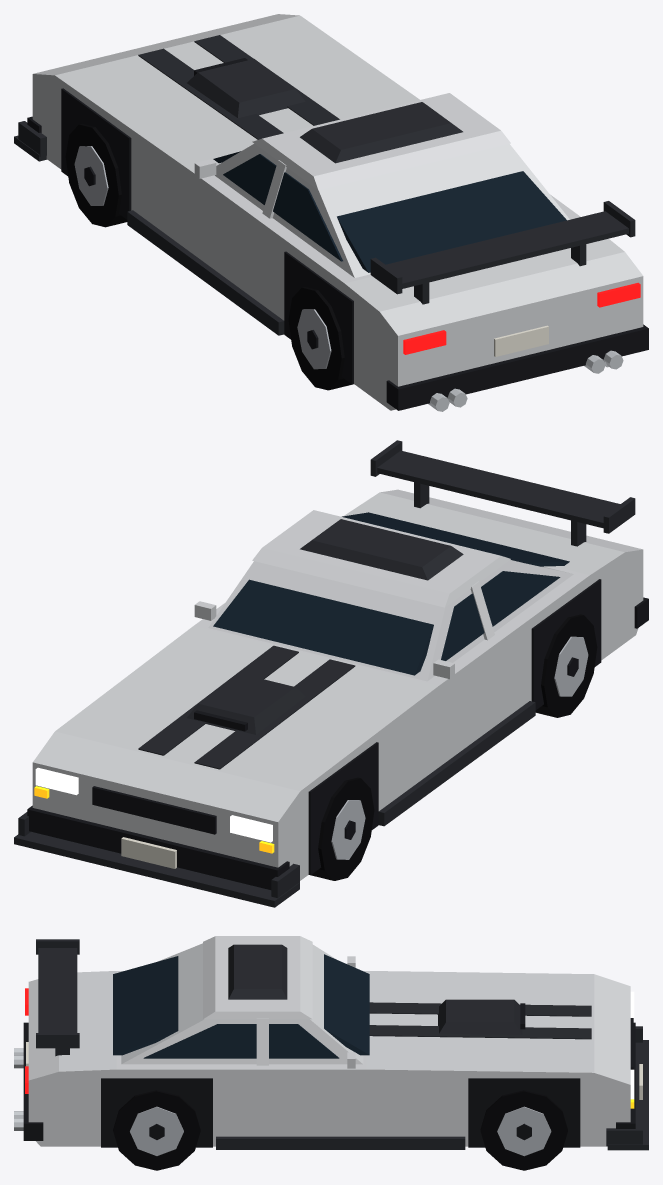
Rendered from car_muscle.glb.
3 renders of one model, top to bottom at view 1: azimuth 30°, elevation 25°; view 2: azimuth 150°, elevation 25°; view 3: azimuth 270°, elevation 25°, orthographic. The views are drawn at different scales.
Visible parts, largest first — view 1: car_muscle__body, car_muscle__mod_spoiler, car_muscle__mod_roof, car_muscle__wheel_rl, car_muscle__wheel_fl, car_muscle__mod_hood, car_muscle__mod_skirts, car_muscle__mod_exhaust, car_muscle__mod_bumper; view 2: car_muscle__body, car_muscle__mod_spoiler, car_muscle__mod_bumper, car_muscle__mod_roof, car_muscle__wheel_fl, car_muscle__wheel_rl, car_muscle__mod_hood, car_muscle__mod_skirts; view 3: car_muscle__body, car_muscle__wheel_rr, car_muscle__wheel_fr, car_muscle__mod_spoiler, car_muscle__mod_skirts, car_muscle__mod_roof, car_muscle__mod_hood, car_muscle__mod_bumper, car_muscle__mod_exhaust.
Part boxes in pixels (box(x1,y1,x2,y2)): car_muscle__body: box(27, 14, 648, 410); car_muscle__mod_spoiler: box(370, 201, 635, 304); car_muscle__mod_roof: box(300, 102, 462, 163); car_muscle__wheel_rl: box(288, 287, 352, 390); car_muscle__wheel_fl: box(65, 123, 127, 227); car_muscle__mod_hood: box(187, 58, 305, 117); car_muscle__mod_skirts: box(127, 210, 284, 335); car_muscle__mod_exhaust: box(428, 350, 623, 411); car_muscle__mod_bumper: box(14, 121, 46, 161); car_muscle__body: box(27, 489, 648, 889); car_muscle__mod_spoiler: box(370, 440, 635, 546); car_muscle__mod_bumper: box(14, 812, 299, 907); car_muscle__mod_roof: box(300, 519, 463, 580); car_muscle__wheel_fl: box(310, 777, 374, 880); car_muscle__wheel_rl: box(535, 614, 597, 717); car_muscle__mod_hood: box(187, 673, 305, 734); car_muscle__mod_skirts: box(378, 701, 535, 826); car_muscle__body: box(23, 936, 642, 1147); car_muscle__wheel_rr: box(113, 1090, 200, 1170); car_muscle__wheel_fr: box(480, 1090, 567, 1170); car_muscle__mod_spoiler: box(36, 939, 79, 1056); car_muscle__mod_skirts: box(216, 1136, 465, 1149); car_muscle__mod_roof: box(228, 944, 287, 999); car_muscle__mod_hood: box(438, 999, 525, 1034); car_muscle__mod_bumper: box(606, 1026, 648, 1150); car_muscle__mod_exhaust: box(14, 1048, 23, 1130).
Bounding box in the file's own units: 2.05 × 1.38 × 5.22.
